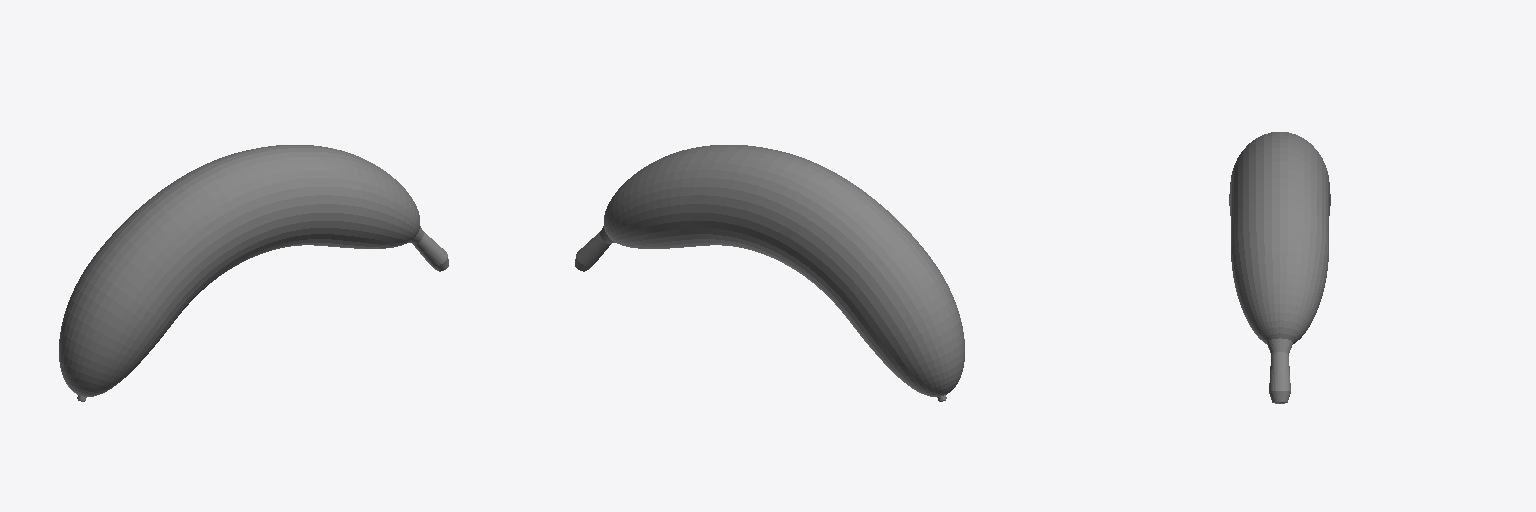
The model's file is banana.OBJ.
The picture shows the model from 3 angles: view 1: azimuth 30°, elevation 25°; view 2: azimuth 150°, elevation 25°; view 3: azimuth 270°, elevation 25°; orthographic projection.
Parts seen in each view (by area): view 1: Group1; view 2: Group1; view 3: Group1.
Part boxes in pixels (bbox=[...]): Group1: bbox=[59, 145, 448, 401]; Group1: bbox=[575, 145, 964, 401]; Group1: bbox=[1229, 132, 1330, 403].
Bounding box in the file's own units: 10.57 × 5.4 × 2.42.